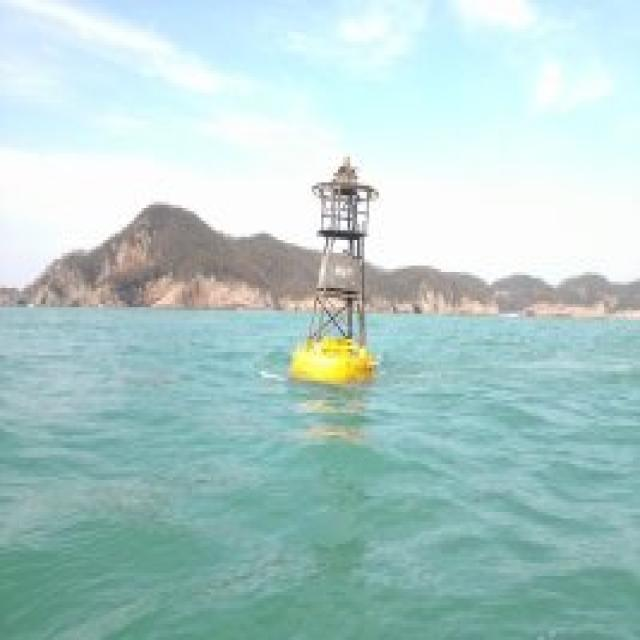buoy: (280, 124, 400, 402)
